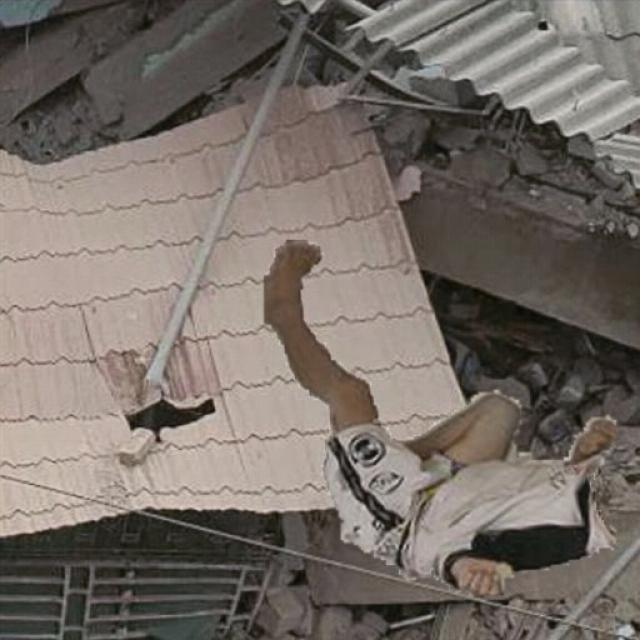Person in Rubble: (264, 240, 615, 596)
